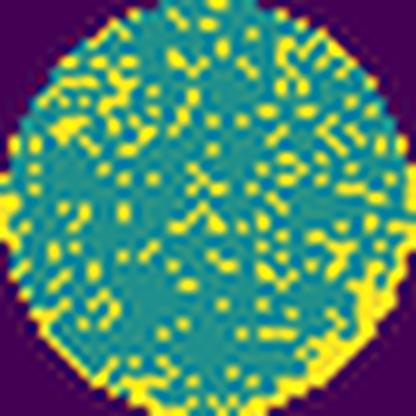Edge-Loc: (232, 155, 415, 416), (115, 346, 204, 416), (0, 180, 21, 248)
